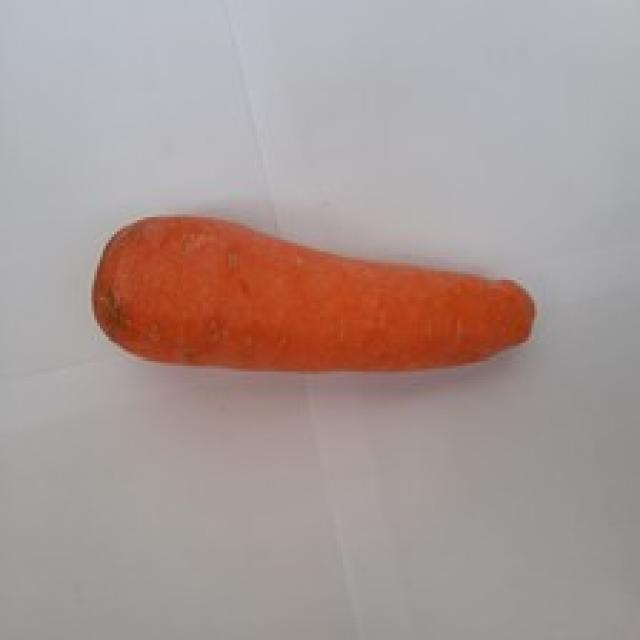carrot: (94, 212, 535, 374)
